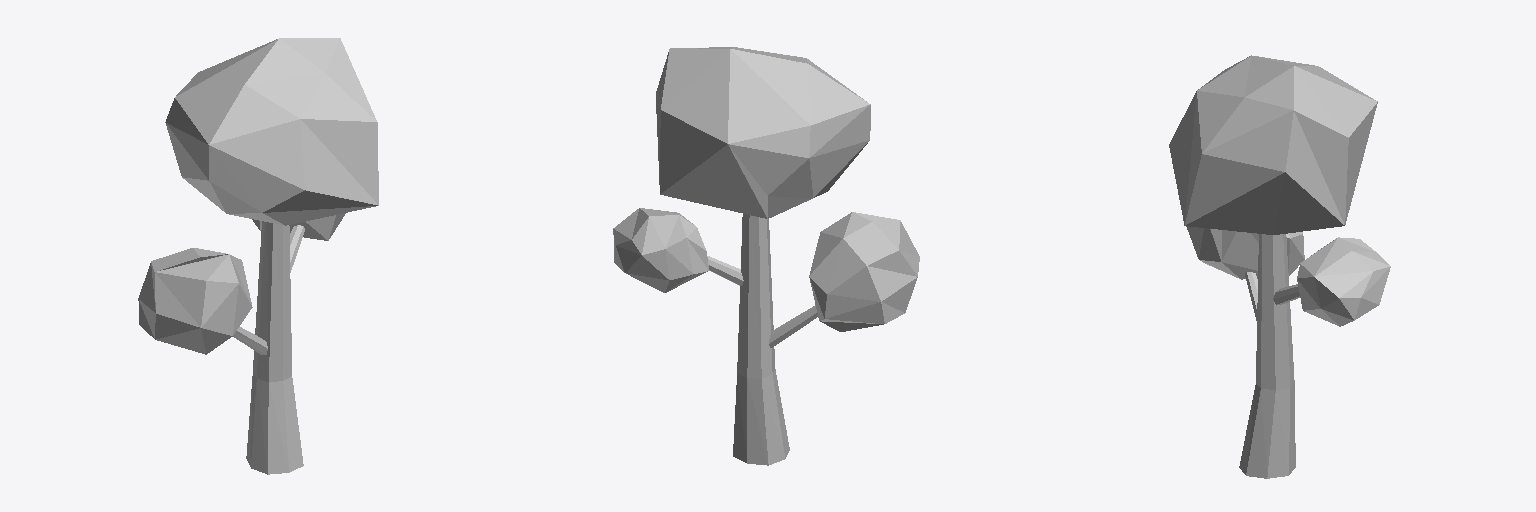
The model's file is Tree Green 8.obj.
3 renders of one model, left to right at view 1: azimuth 30°, elevation 25°; view 2: azimuth 150°, elevation 25°; view 3: azimuth 270°, elevation 25°, orthographic.
Visible parts, largest first — view 1: Tree Green 8; view 2: Tree Green 8; view 3: Tree Green 8.
Part boxes in pixels (x1,y1,x2,y2): Tree Green 8: (138, 38, 378, 474); Tree Green 8: (613, 47, 919, 465); Tree Green 8: (1169, 55, 1390, 478).
Size of the model in its own units: 2.82 by 4.41 by 2.17.